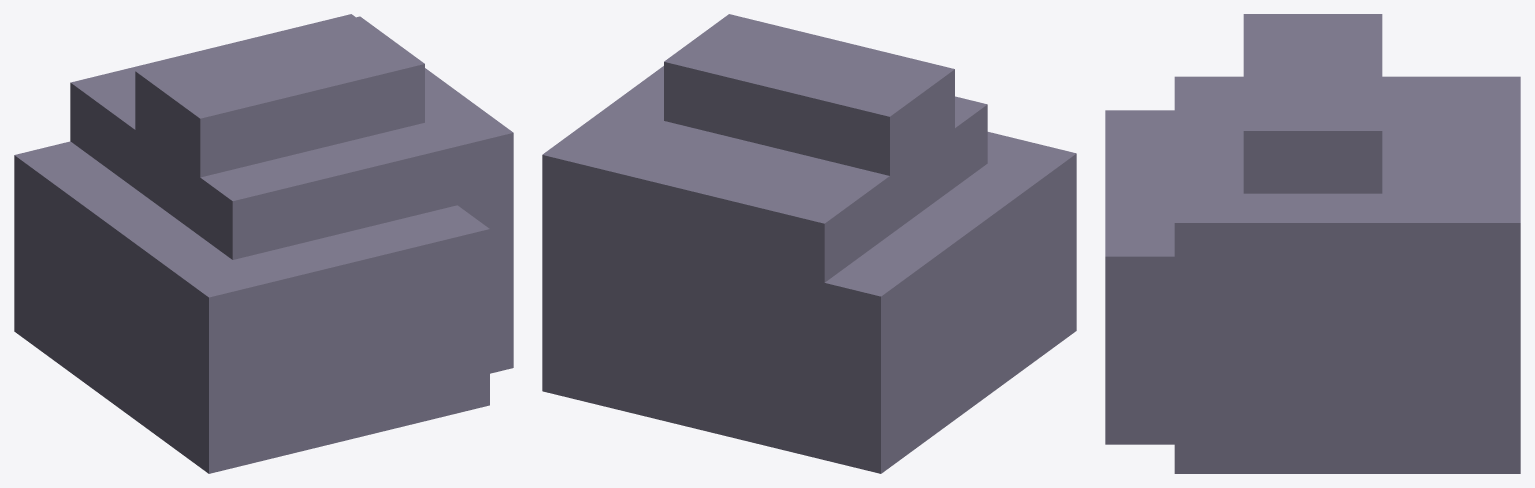
File: boulder.glb
The picture shows the model from 3 angles, left to right: view 1: azimuth 30°, elevation 25°; view 2: azimuth 150°, elevation 25°; view 3: azimuth 270°, elevation 25°; orthographic projection. The views are drawn at different scales.
Bounding box in the file's own units: 0.6 × 0.5 × 0.6.
1 material, 1 textured.
